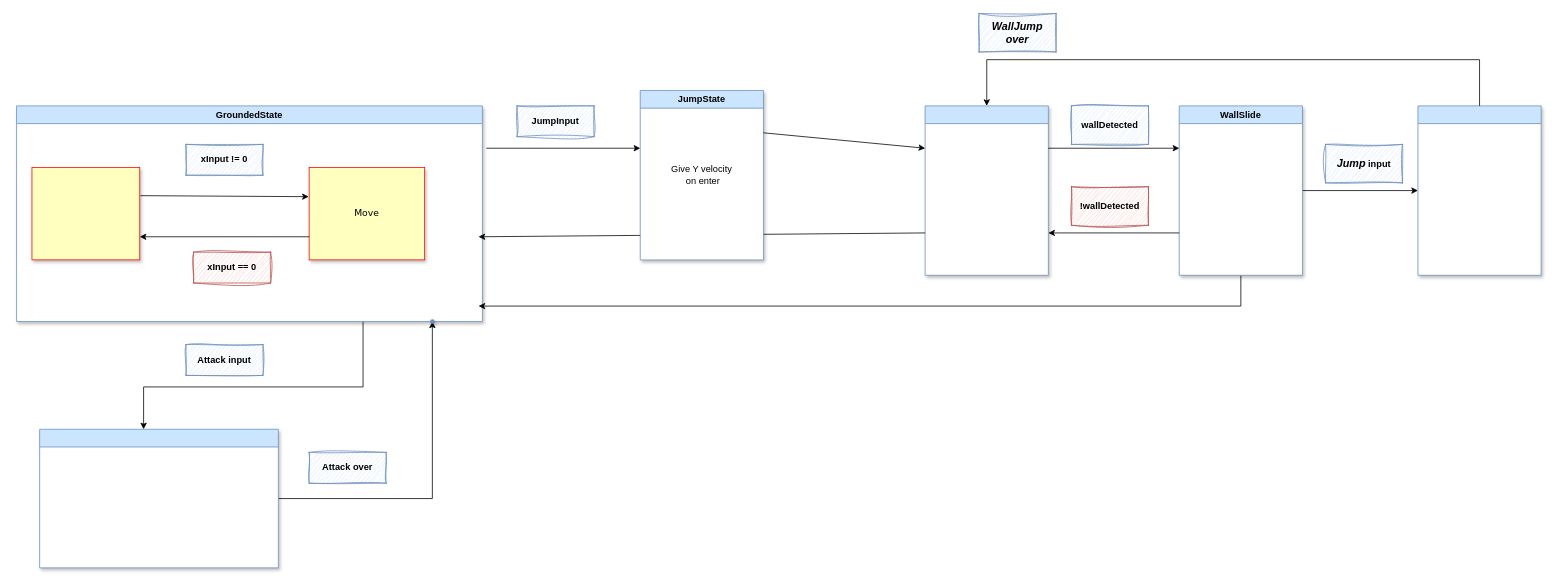
The diagram is 1559 pixels wide and 587 high, and some of its shapes have lost their labels. Here are the shapes that lost their labels. From the top down, the centre of each, then its label:
At point (987, 191): "AirState".
At point (1480, 191): "WallJump".
At point (86, 214): "Idle".
At point (159, 499): "AttackState".
